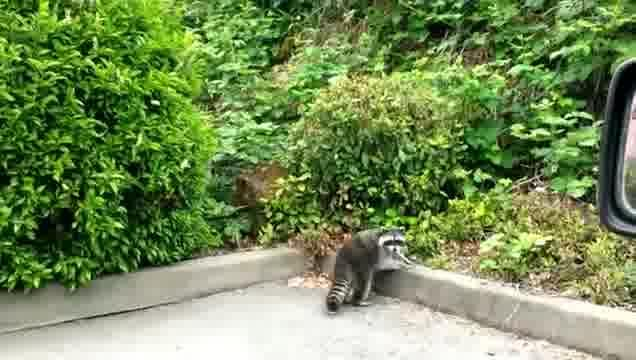raccoon: (321, 228, 412, 314)
